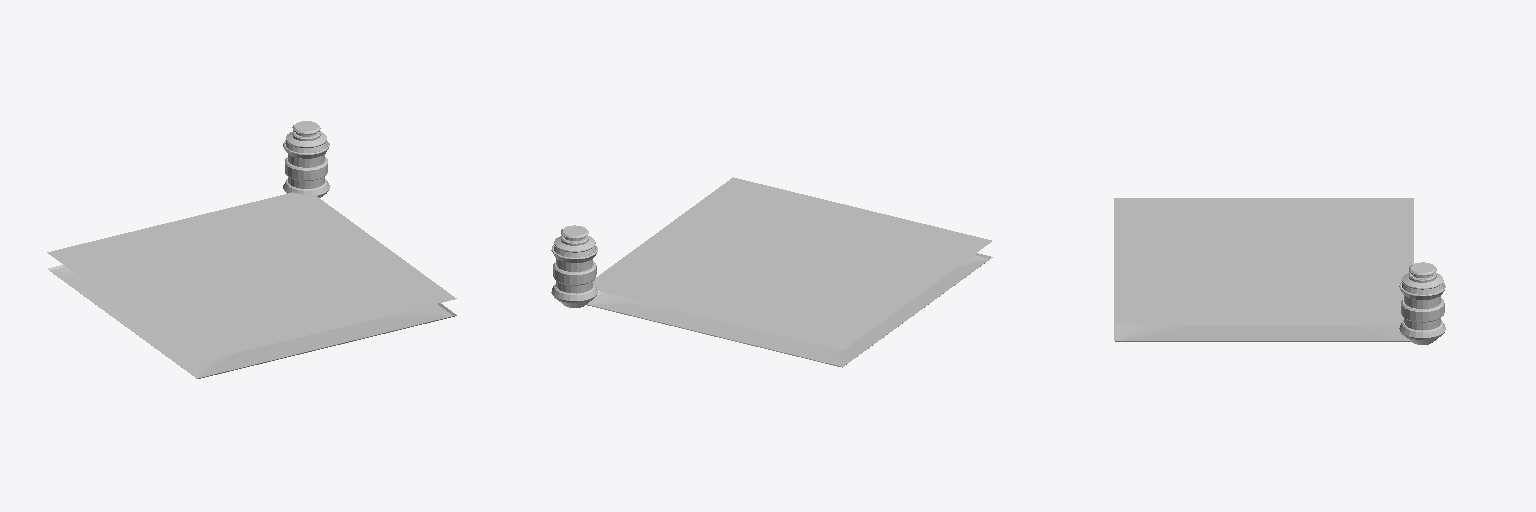
Rendered from platform 1.obj.
3 views of the same model, side by side, from view 1: azimuth 30°, elevation 25°; view 2: azimuth 150°, elevation 25°; view 3: azimuth 270°, elevation 25° (orthographic).
Visible parts, largest first — view 1: platform_1 group26 top, platform_1 group26 bottom, WTF platform_1 group26; view 2: platform_1 group26 top, platform_1 group26 bottom, WTF platform_1 group26; view 3: platform_1 group26 top, platform_1 group26 bottom, WTF platform_1 group26.
Boxes of the visible parts, x1=… form: platform_1 group26 top: x1=47, y1=192, x2=456, y2=361; platform_1 group26 bottom: x1=48, y1=265, x2=456, y2=378; WTF platform_1 group26: x1=283, y1=121, x2=329, y2=197; platform_1 group26 top: x1=593, y1=177, x2=991, y2=350; platform_1 group26 bottom: x1=587, y1=253, x2=992, y2=367; WTF platform_1 group26: x1=551, y1=225, x2=597, y2=307; platform_1 group26 top: x1=1114, y1=198, x2=1413, y2=324; platform_1 group26 bottom: x1=1114, y1=325, x2=1410, y2=341; WTF platform_1 group26: x1=1399, y1=262, x2=1445, y2=344.
Bounding box in the file's own units: 414 × 133 × 419.